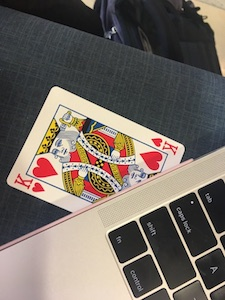KingOfHearts: (7, 81, 187, 225)
